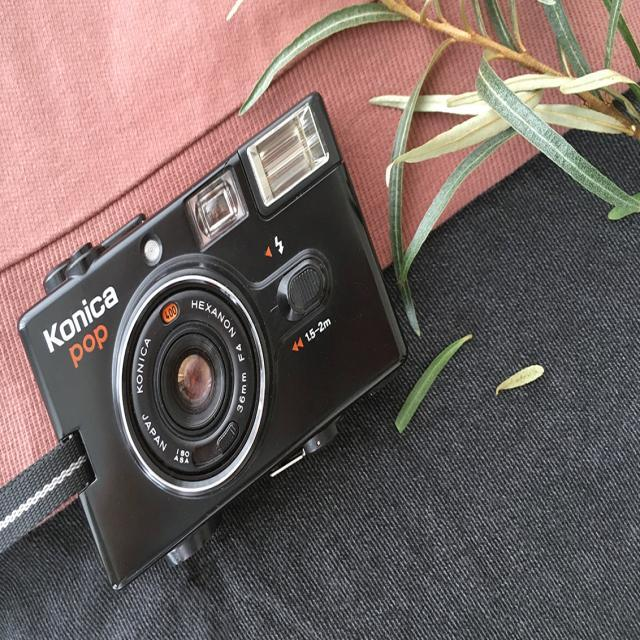hidden camera: (119, 284, 268, 474)
